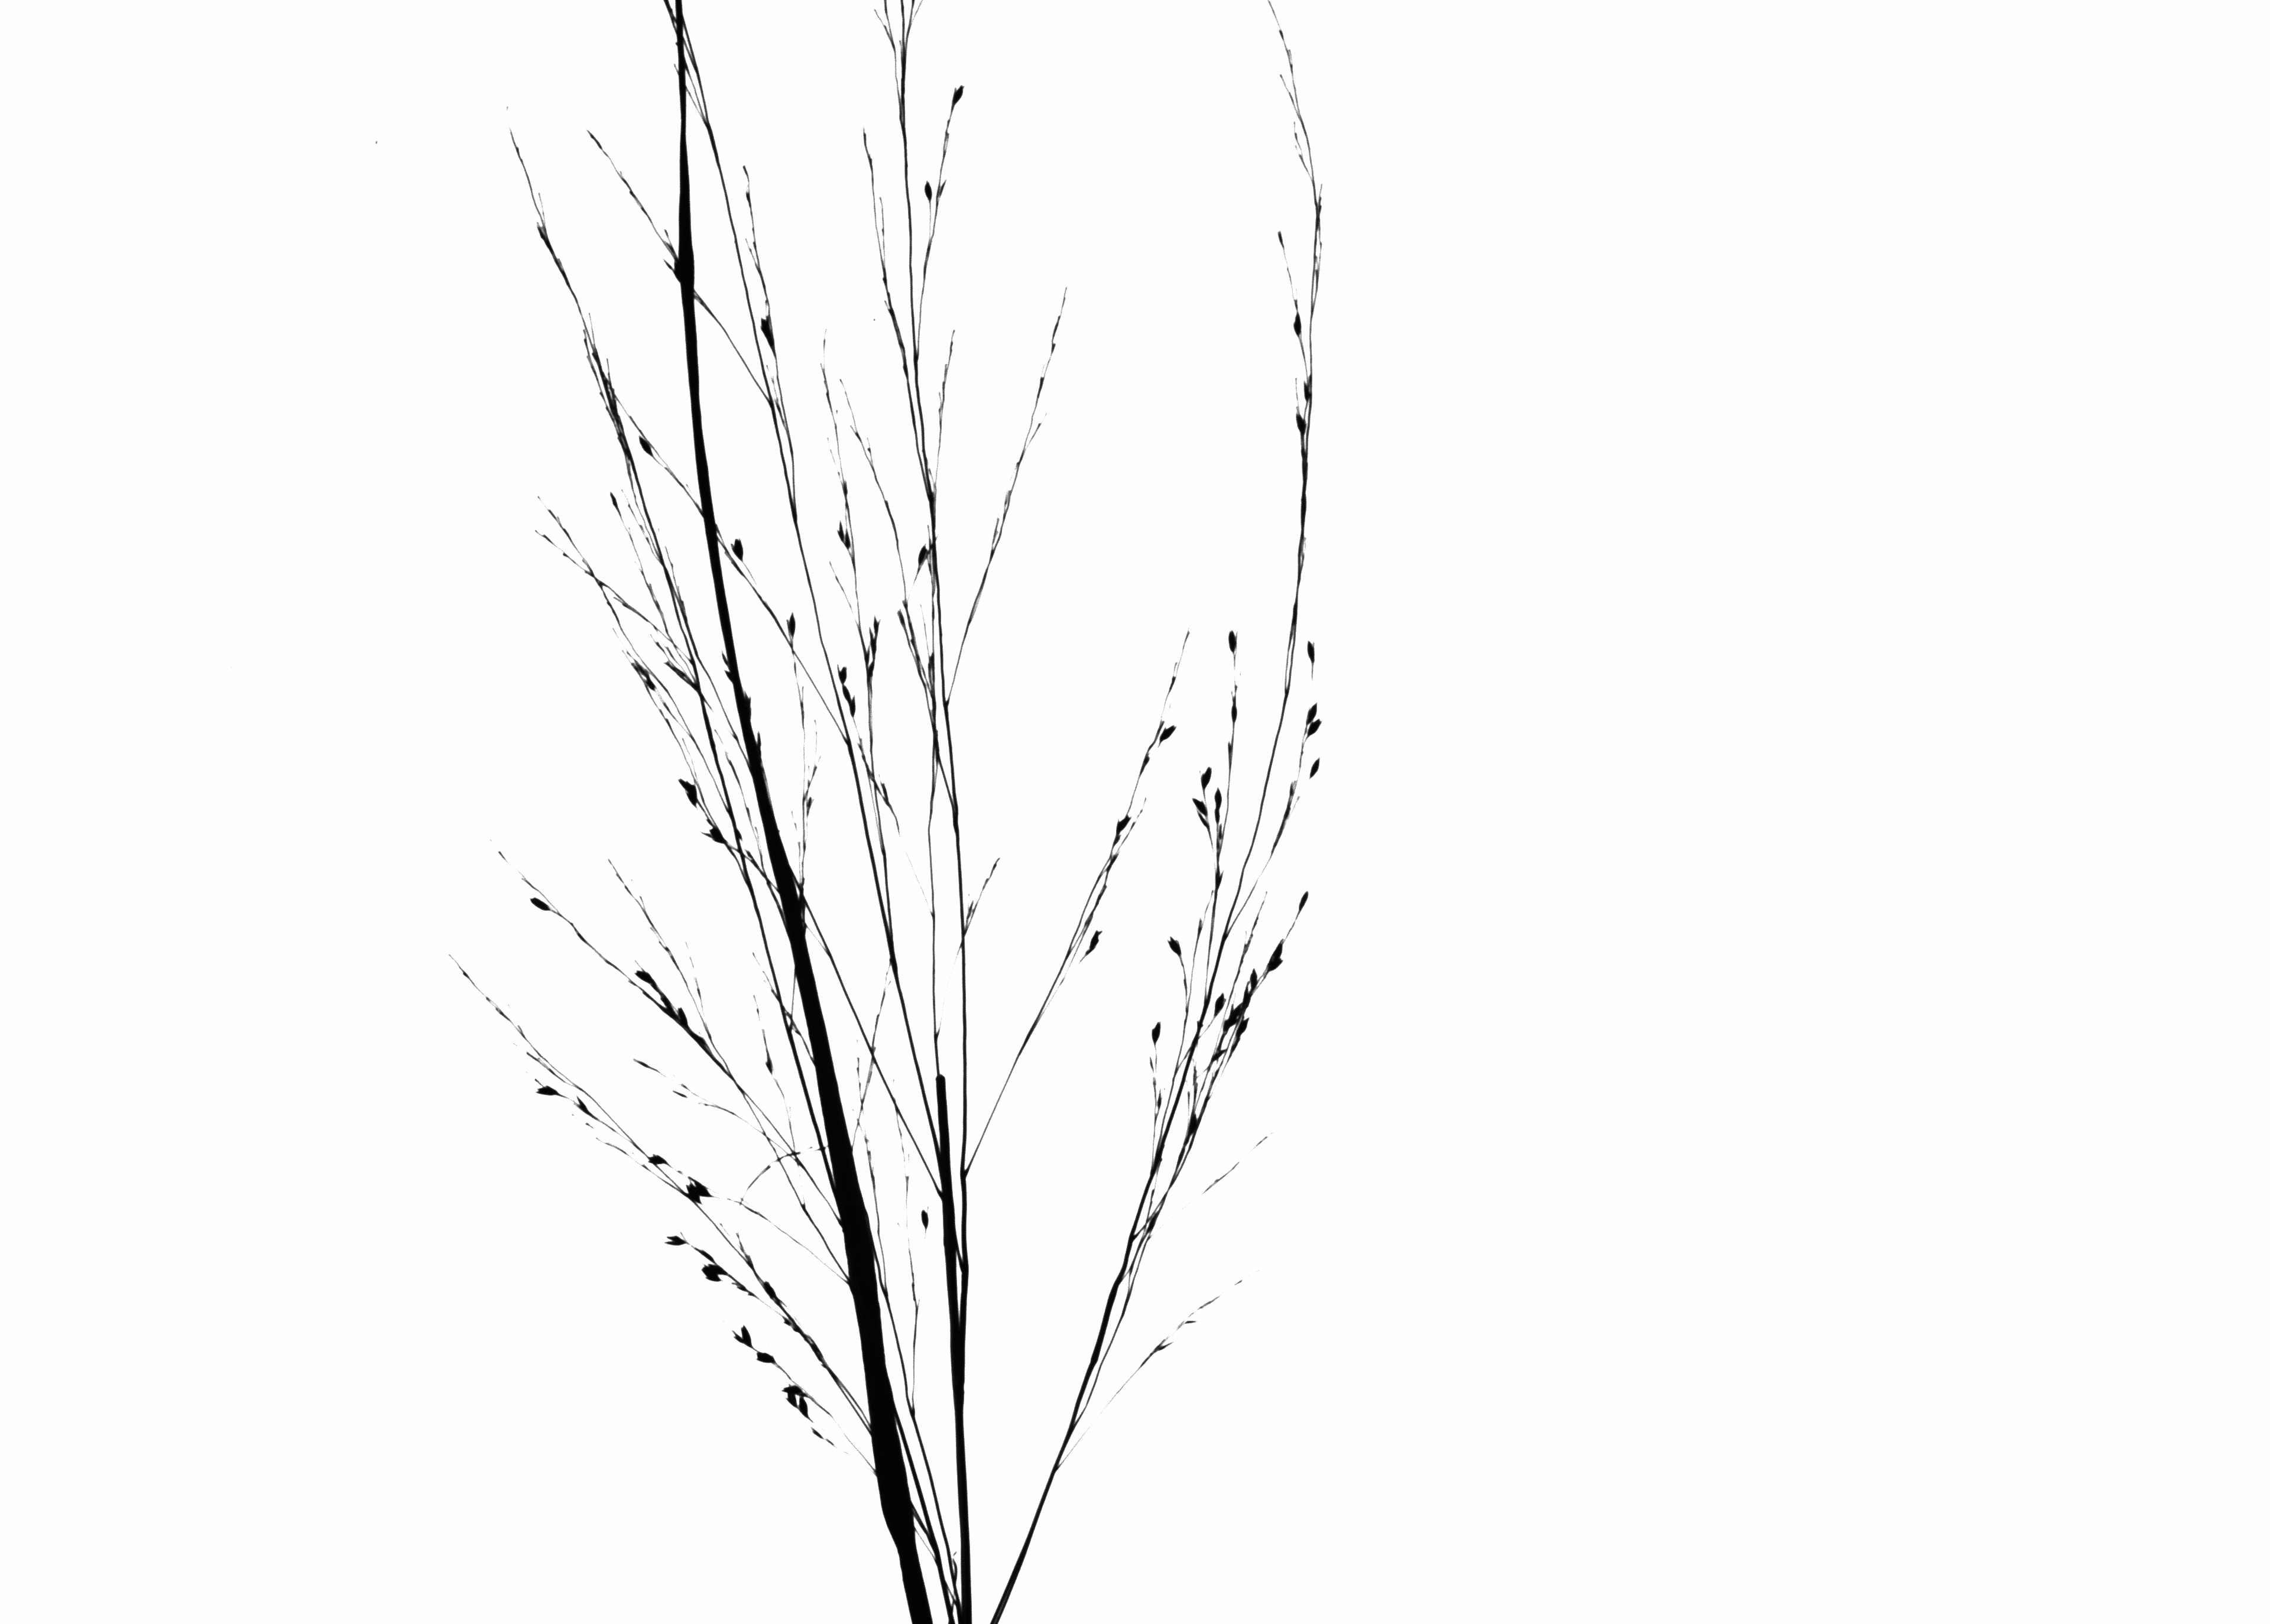seed: (642, 1144, 670, 1171), (756, 315, 777, 348), (529, 1081, 563, 1102), (777, 1380, 811, 1399), (637, 432, 658, 462), (682, 1179, 703, 1209), (1266, 939, 1284, 974), (529, 893, 556, 916), (682, 777, 700, 810), (675, 1004, 693, 1037), (659, 1230, 689, 1250), (753, 1350, 782, 1369), (1088, 926, 1106, 958), (738, 1315, 754, 1350), (698, 1267, 726, 1287), (760, 1046, 777, 1076), (571, 1091, 593, 1116), (1159, 722, 1178, 749), (633, 968, 659, 988), (1292, 410, 1308, 441), (918, 1200, 932, 1236), (679, 779, 700, 801), (672, 257, 688, 286), (1224, 627, 1240, 656), (1306, 754, 1322, 782), (1213, 990, 1229, 1018), (695, 1179, 716, 1200), (1194, 808, 1213, 831), (1234, 1016, 1252, 1040), (1166, 933, 1183, 958), (730, 536, 747, 561), (1291, 309, 1305, 339), (1197, 765, 1213, 791), (798, 1396, 814, 1422), (761, 1278, 781, 1299), (921, 178, 935, 206), (1306, 717, 1322, 742), (709, 828, 728, 847), (1305, 700, 1319, 726), (1192, 798, 1210, 819), (786, 1383, 800, 1410), (1187, 1109, 1199, 1139), (1115, 812, 1131, 835), (1215, 868, 1227, 896), (1298, 888, 1310, 914), (1150, 1019, 1162, 1046), (719, 647, 733, 670), (867, 624, 877, 654), (788, 612, 798, 642), (953, 83, 965, 107), (840, 682, 853, 707), (608, 489, 621, 513), (937, 178, 948, 204), (744, 689, 754, 715), (1248, 965, 1259, 991), (916, 541, 927, 568), (842, 527, 853, 554), (640, 677, 658, 692), (723, 670, 737, 687), (1303, 380, 1313, 402), (1305, 638, 1315, 661), (1229, 703, 1240, 724), (1213, 784, 1222, 808), (837, 518, 846, 543), (837, 666, 849, 684), (872, 613, 881, 636), (754, 729, 763, 750), (867, 659, 876, 678), (851, 694, 856, 719)
